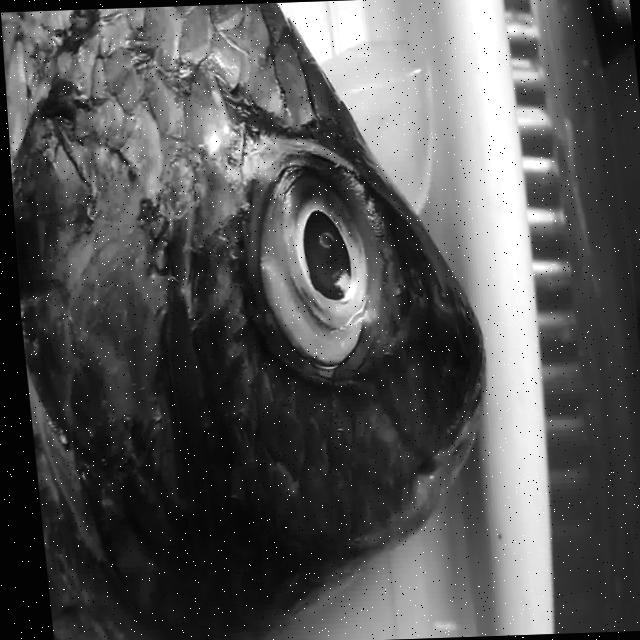Fresh: (221, 102, 398, 410)
